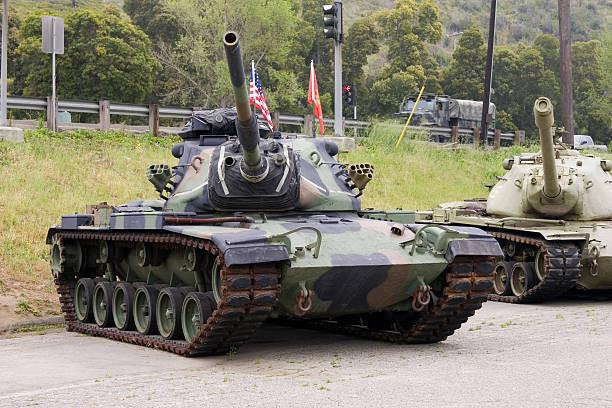tank: (44, 31, 499, 357), (438, 99, 611, 305)
